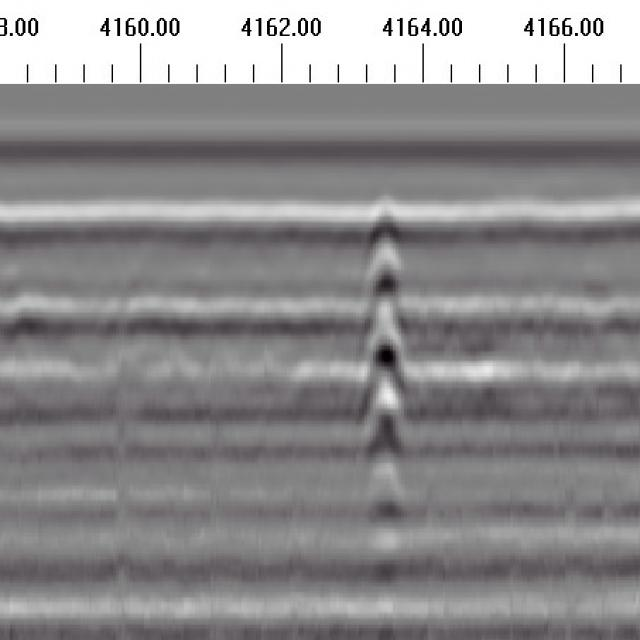crack: (364, 191, 405, 596)
